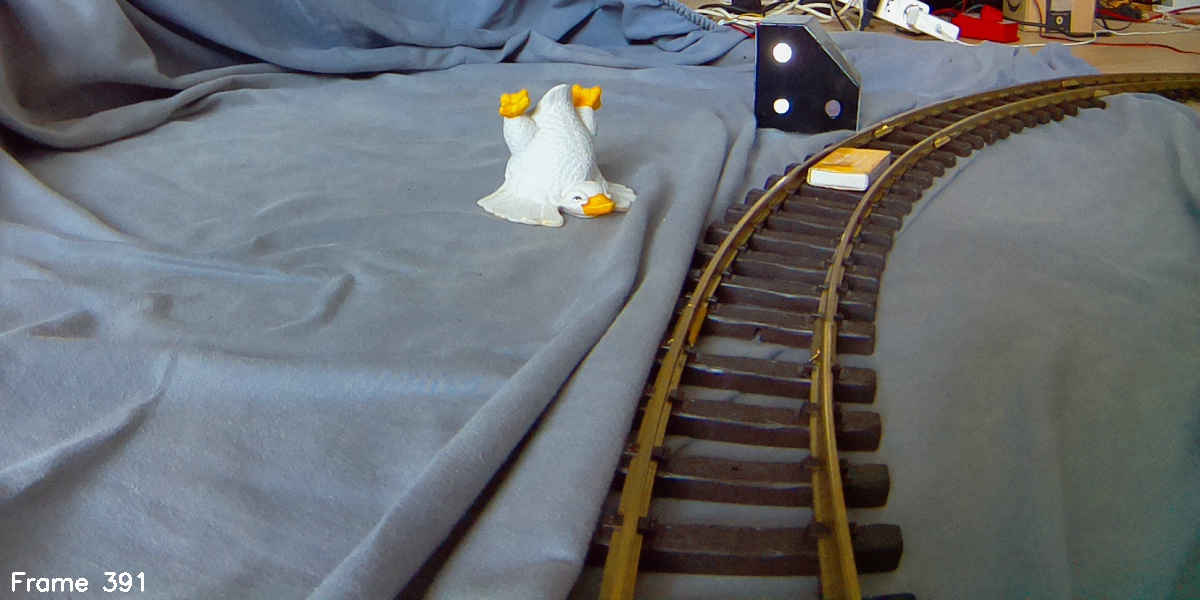Ente: (474, 82, 639, 233)
Fahrt: (754, 15, 861, 135)
